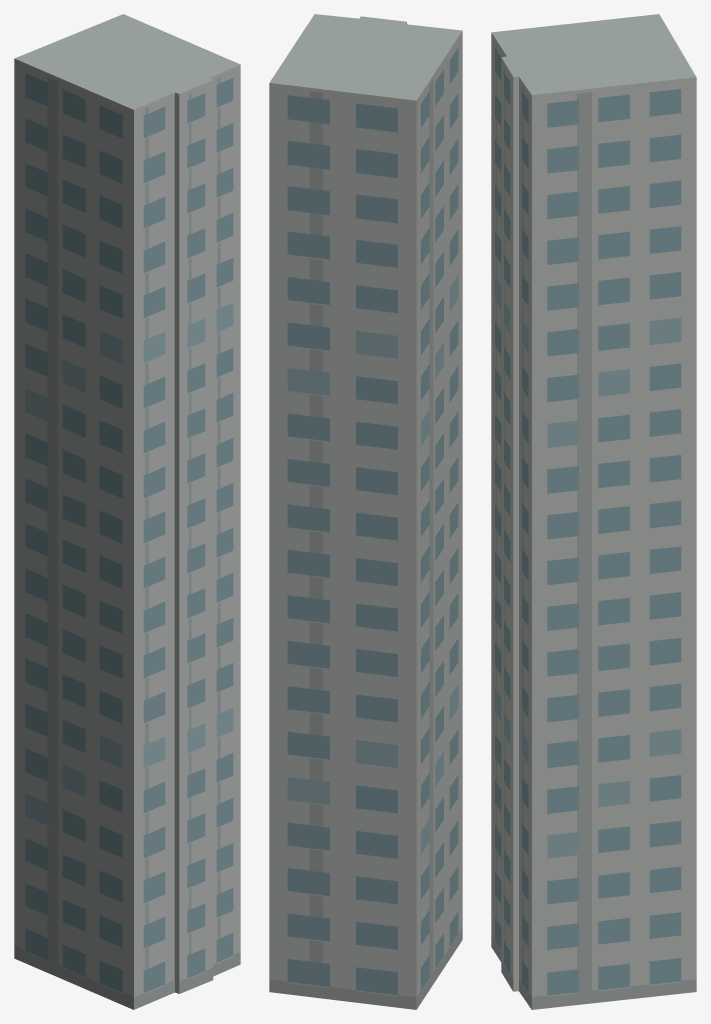
File: survey-upis-32573511.glb
The picture shows the model from 3 angles, left to right: view 1: azimuth 30°, elevation 25°; view 2: azimuth 150°, elevation 25°; view 3: azimuth 270°, elevation 25°; orthographic projection.
Parts seen in each view (by area): view 1: survey-upis-32573511.tmp; view 2: survey-upis-32573511.tmp; view 3: survey-upis-32573511.tmp.
Part boxes in pixels (x1,y1,x2,y2): survey-upis-32573511.tmp: (14,14,240,1009); survey-upis-32573511.tmp: (269,14,462,1009); survey-upis-32573511.tmp: (491,14,696,1009).
Size of the model in its own units: 11.61 by 61 by 12.4.
